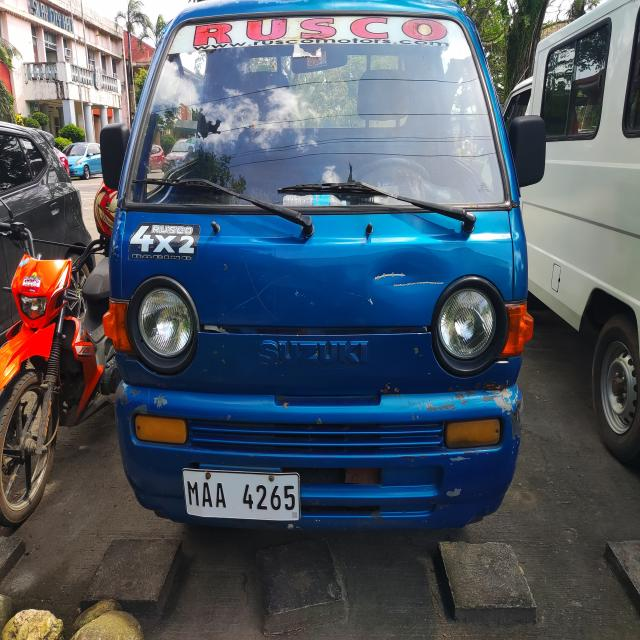plate: (181, 467, 302, 522)
